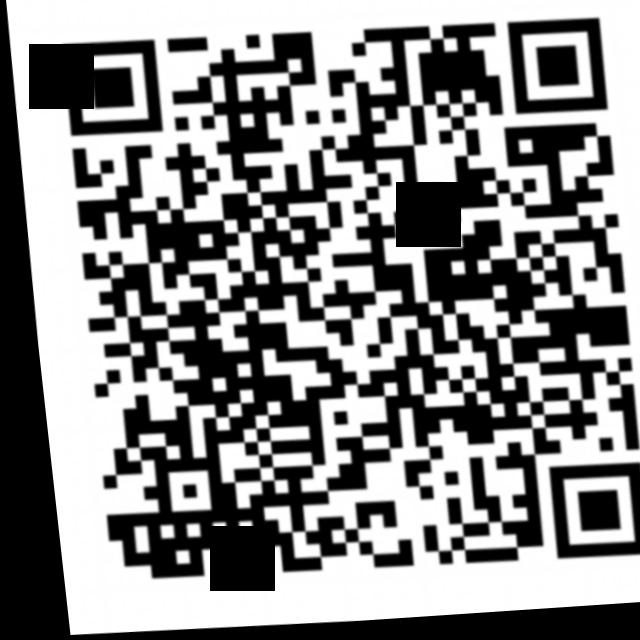QR_CODE: (37, 0, 640, 602)
